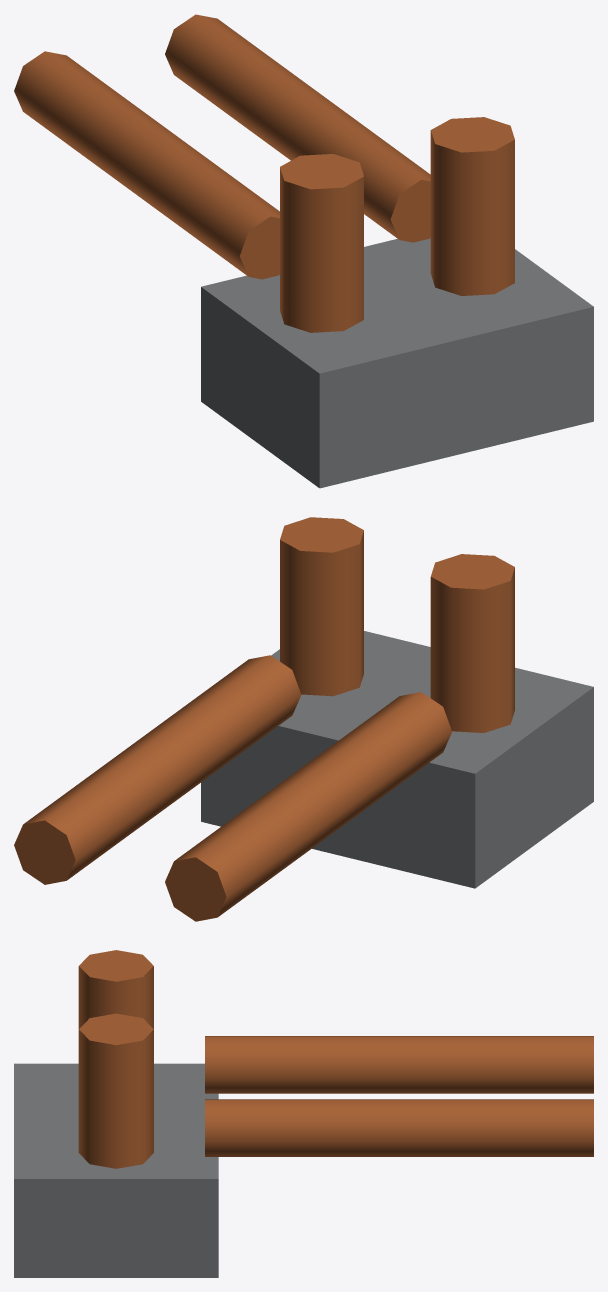
Rendered from srw_emergency_coolant.obj.
3 renders of one model, top to bottom at view 1: azimuth 30°, elevation 25°; view 2: azimuth 150°, elevation 25°; view 3: azimuth 270°, elevation 25°, orthographic. The views are drawn at different scales.
Parts seen in each view (by area): view 1: srw_emergency_coolant; view 2: srw_emergency_coolant; view 3: srw_emergency_coolant.
Part boxes in pixels (x1,y1,x2,y2): srw_emergency_coolant: (14,14,593,488); srw_emergency_coolant: (14,517,593,921); srw_emergency_coolant: (14,950,593,1277).
Size of the model in its own units: 0.4 by 0.36 by 0.85.
